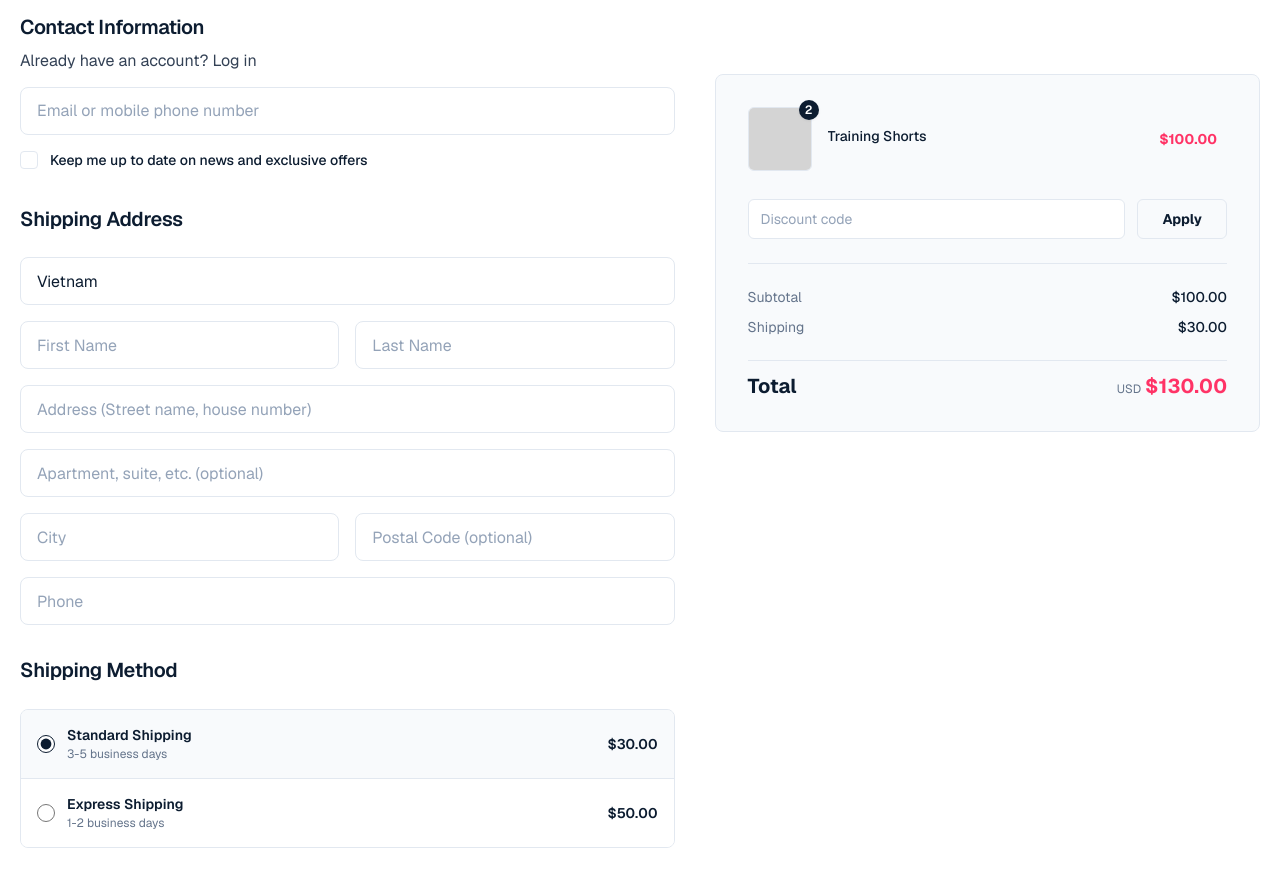
Test: CheckoutClientView › submits order and renders order confirmation screen on valid form data
The image size is (1280, 874).
Fill contact
Type "john@example.com" into the field with placeholder "Email or mobile phone number". click: (347, 110)
box: [20,86,674,134]
Fill first name and last name
Type "John" into the field with placeholder "First Name". click: (180, 345)
box: [20,321,339,369]
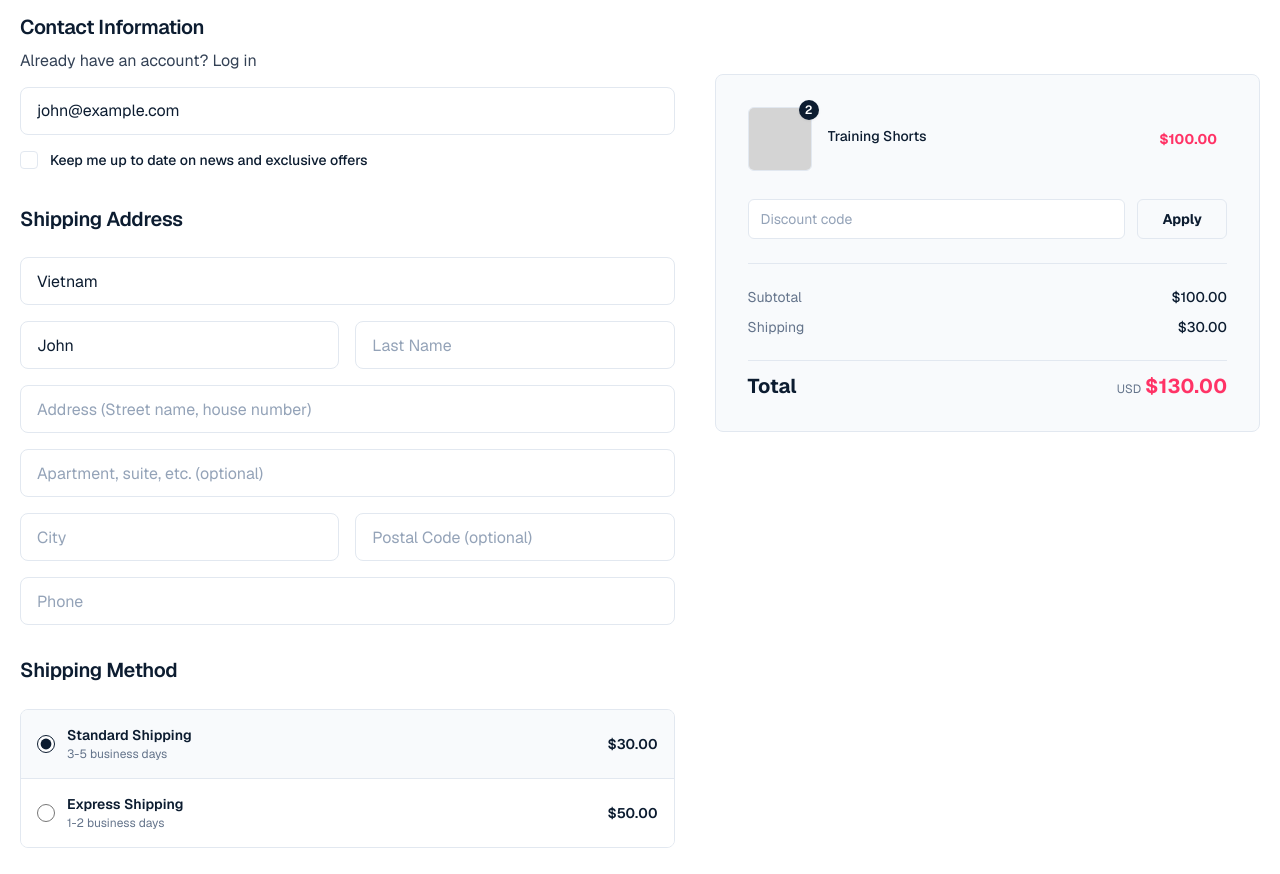
Type "Doe" into the field with placeholder "Last Name". click: (515, 345)
box: [355,321,675,369]
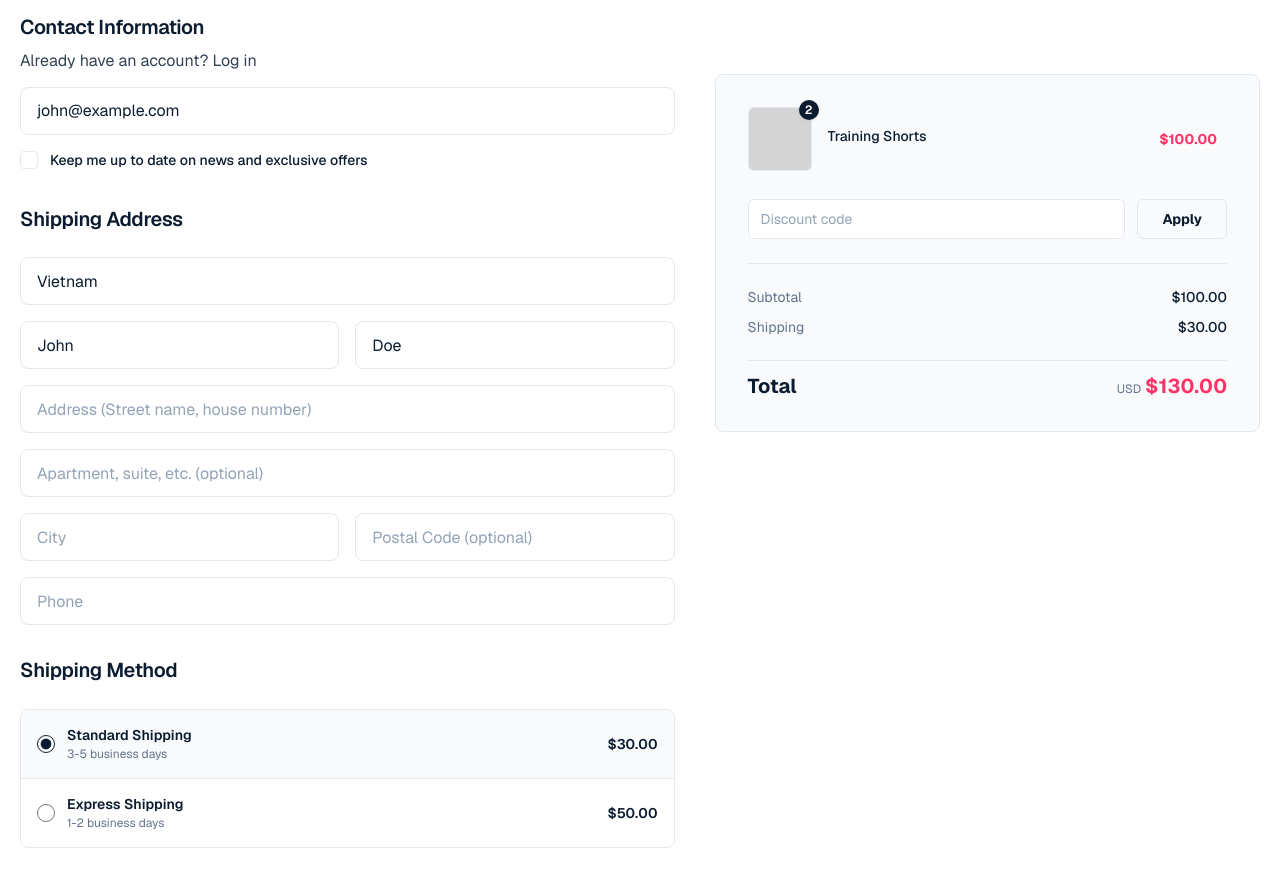
Fill address
Type "123 Main St" into the field with placeholder "Address (Street name, house number)". click: (347, 409)
box: [20,385,674,433]
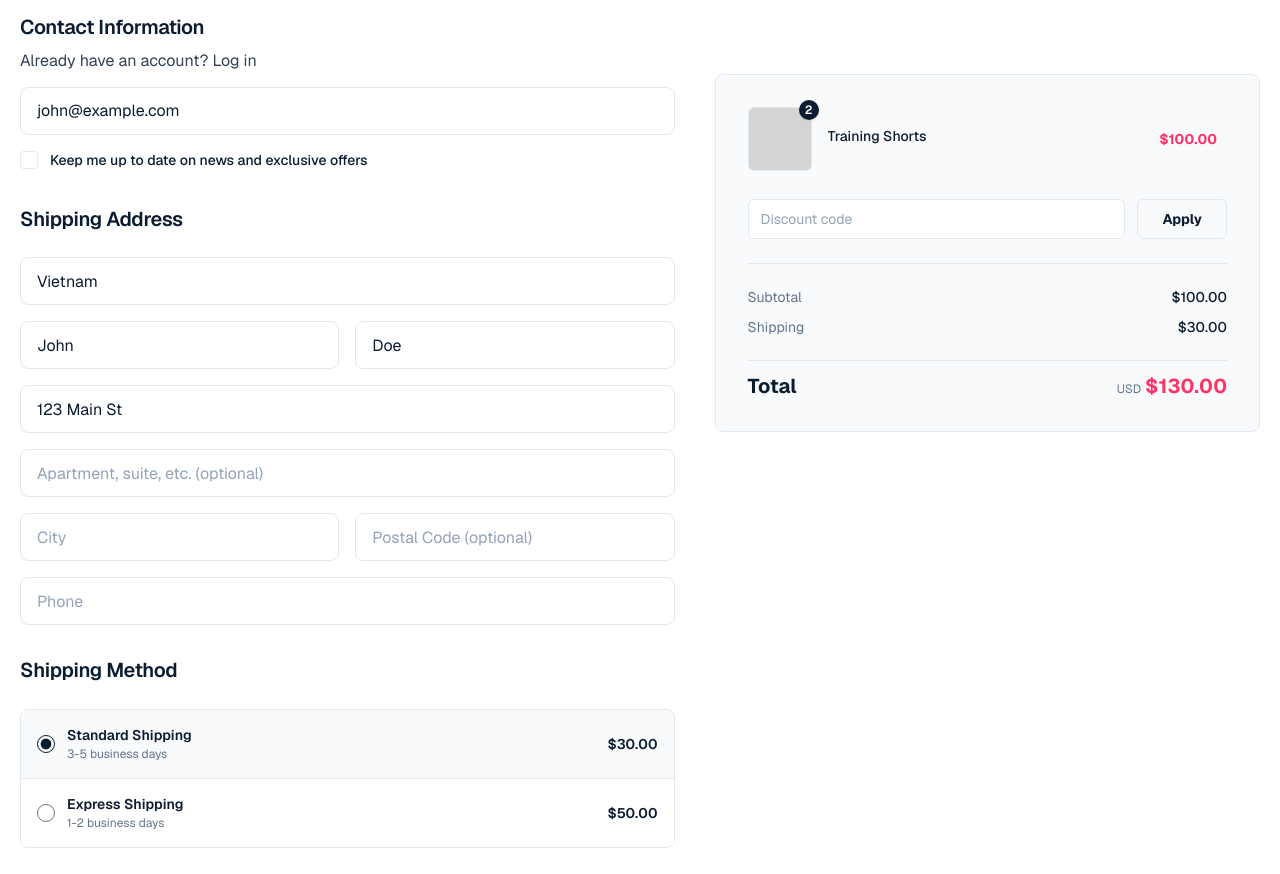
Fill city
Type "Hanoi" into the field with placeholder "City". click: (180, 537)
box: [20,513,339,561]
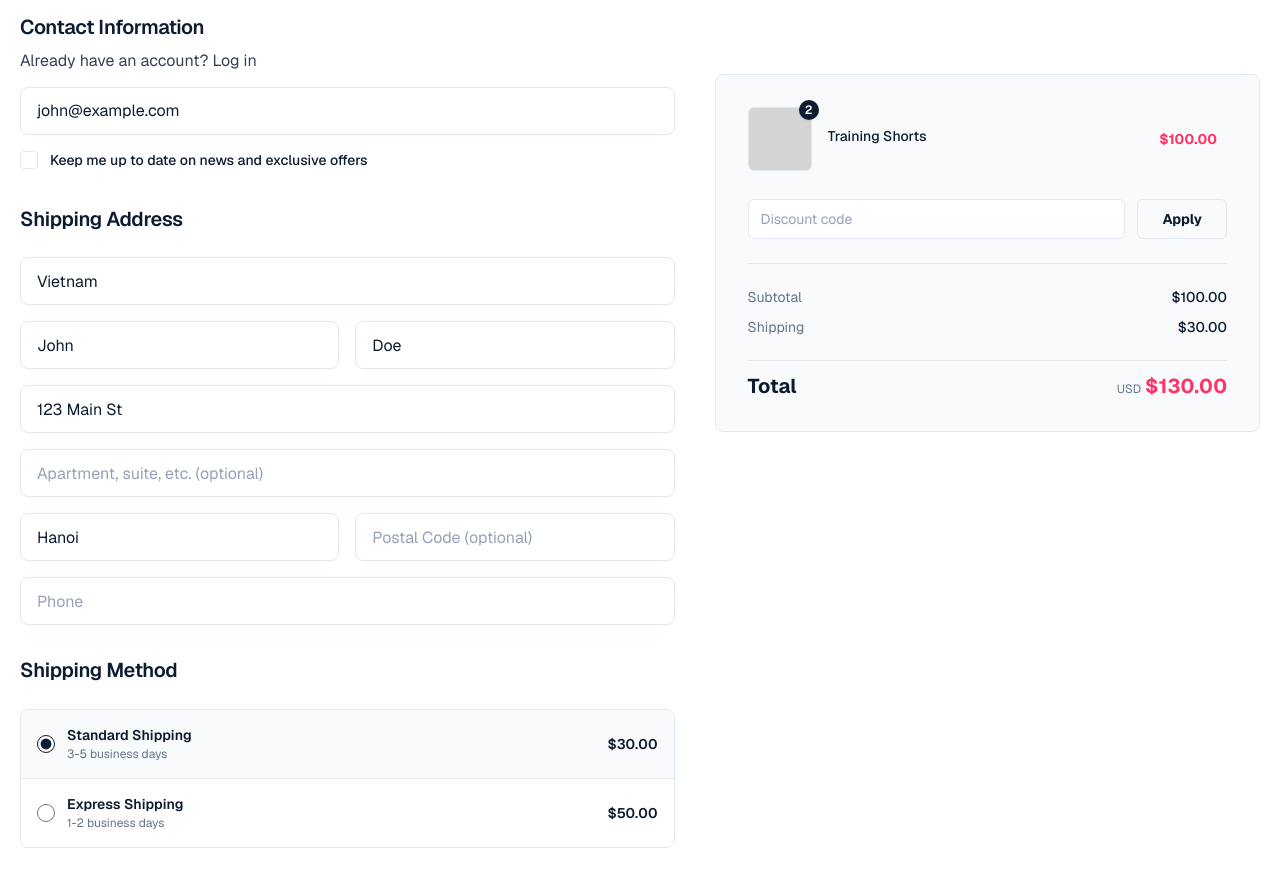
Fill phone
Type "0987654321" into the field with placeholder "Phone". click: (347, 601)
box: [20,577,674,625]
(page scrolled)
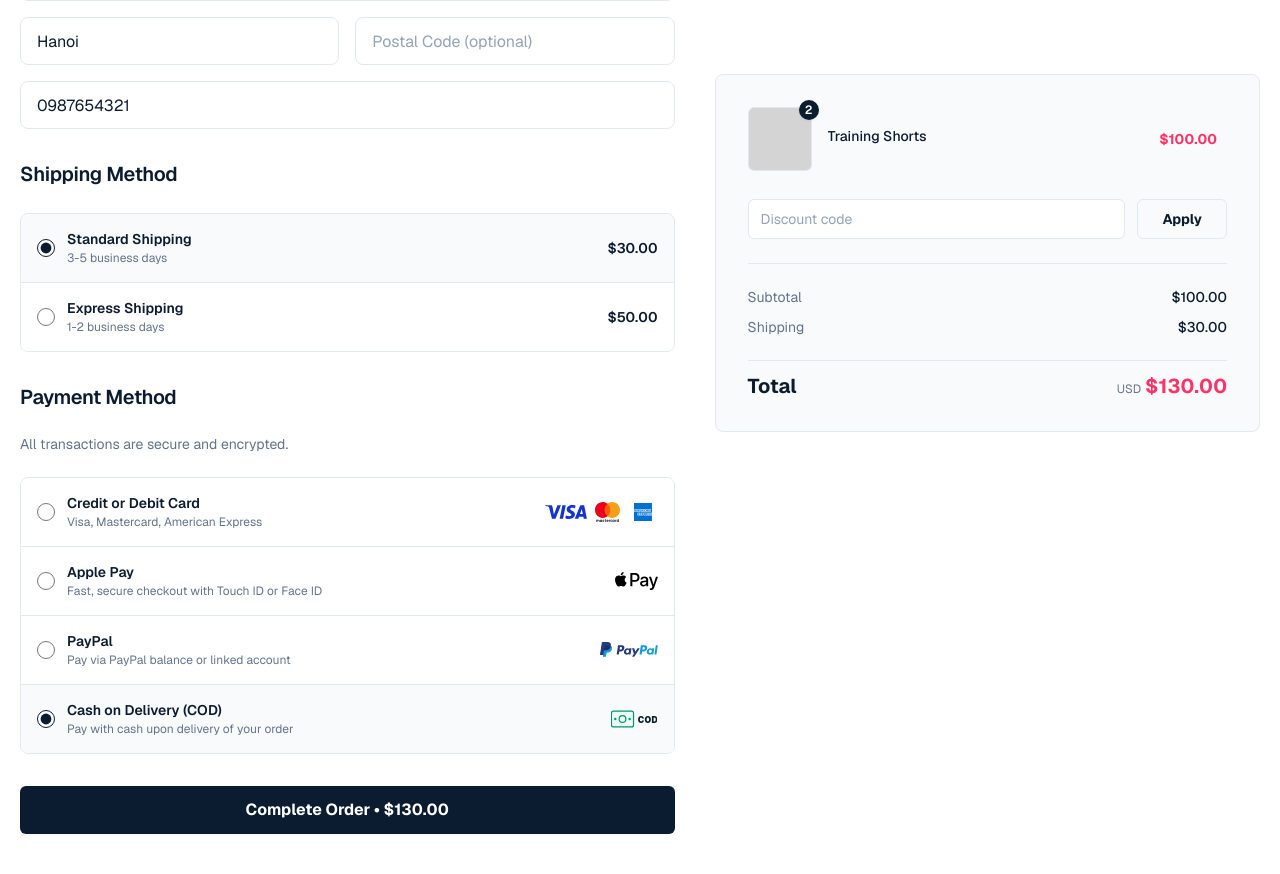
Submit form
Click the button "Complete Order • $130.00". click: (347, 810)
box: [20,786,674,834]
(page scrolled)
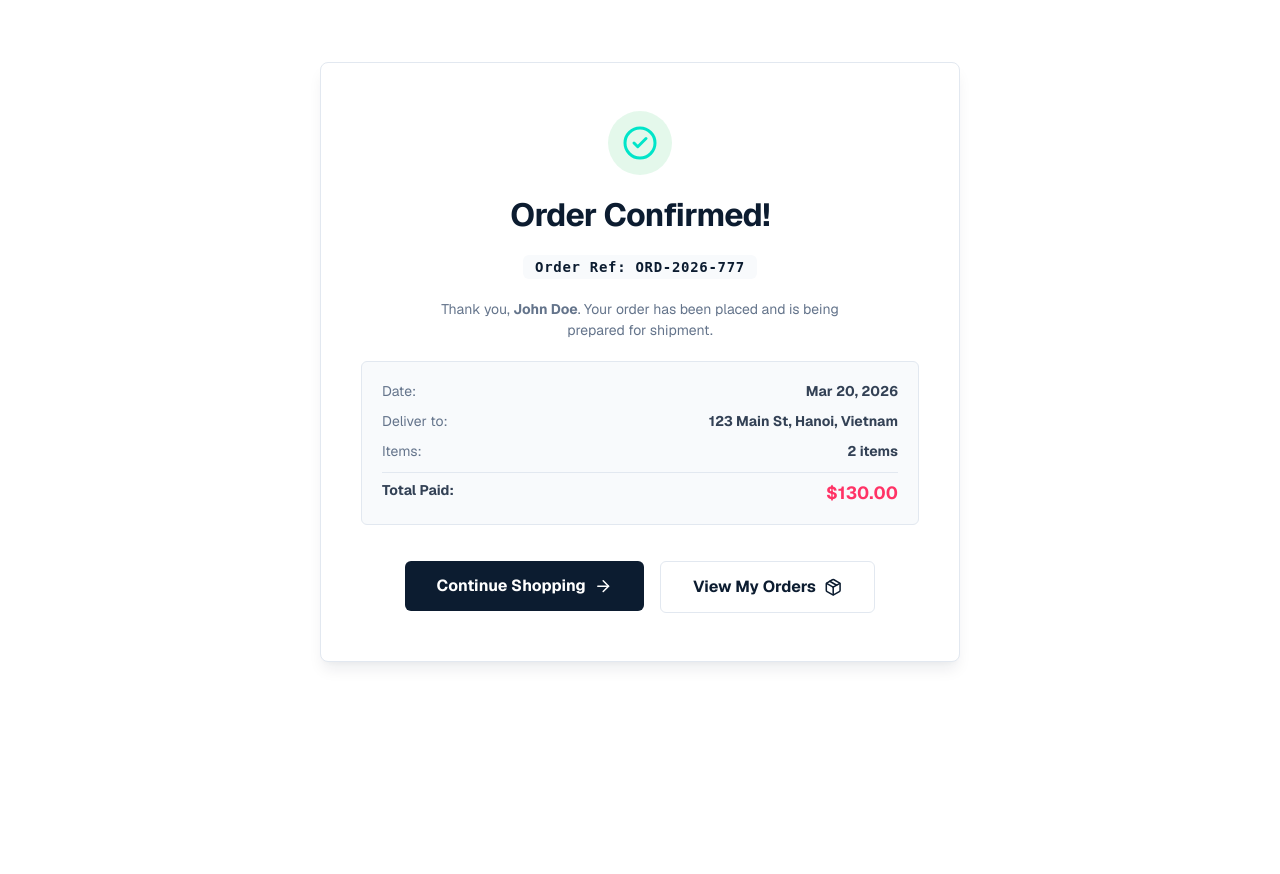
Now the heading "Order Confirmed!" is shown, box [510,195,770,235]
Now the text "Order Ref: ORD-2026-777" is shown, box [523,255,757,279]
Now the text "John Doe" is shown, box [513,300,578,318]
